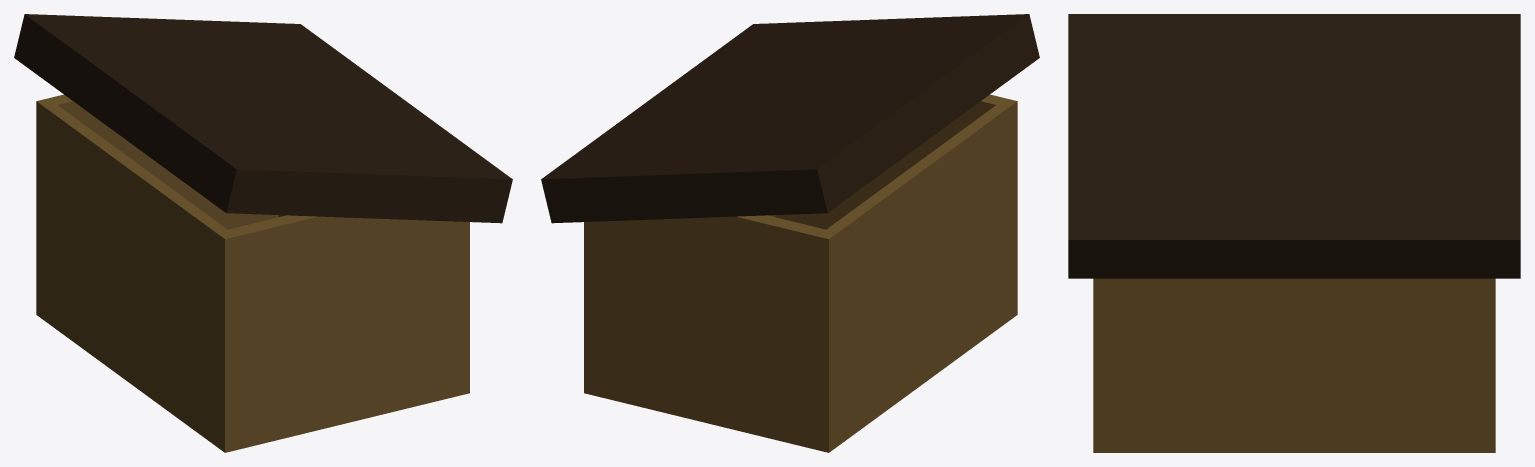
The model's file is 隠れ場所.fbx.
3 renders of one model, left to right at view 1: azimuth 30°, elevation 25°; view 2: azimuth 150°, elevation 25°; view 3: azimuth 270°, elevation 25°, orthographic. The views are drawn at different scales.
Visible parts, largest first — view 1: Cube, Cube.001; view 2: Cube, Cube.001; view 3: Cube.001, Cube.
Part boxes in pixels (x1,y1,x2,y2): Cube: (36,94,469,452); Cube.001: (14,14,512,223); Cube: (584,94,1017,452); Cube.001: (541,14,1039,223); Cube.001: (1068,14,1520,278); Cube: (1093,278,1495,452).
Bounding box in the file's own units: 1.4 × 1.37 × 1.8.
